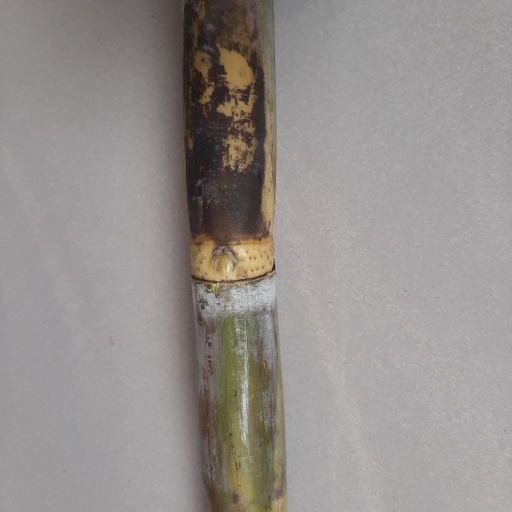Bud: (207, 248, 240, 281)
